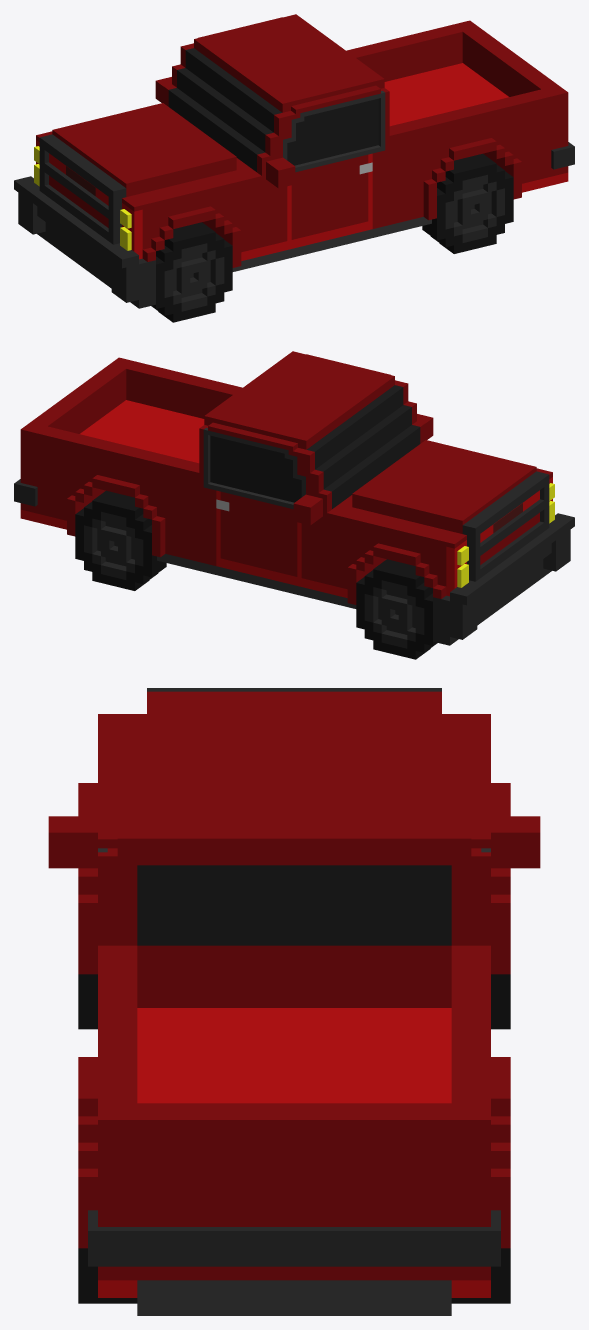
The model's file is car_len3_black.glb.
The picture shows the model from 3 angles, top to bottom: view 1: azimuth 30°, elevation 25°; view 2: azimuth 150°, elevation 25°; view 3: azimuth 270°, elevation 25°; orthographic projection. The views are drawn at different scales.
Parts seen in each view (by area): view 1: _0; view 2: _0; view 3: _0.
Boxes of the visible parts, x1,y1,x2,y2 form: _0: (14, 14, 574, 322); _0: (14, 351, 574, 659); _0: (48, 688, 540, 1315).
Bounding box in the file's own units: 0.1605 × 0.0615 × 0.075.
